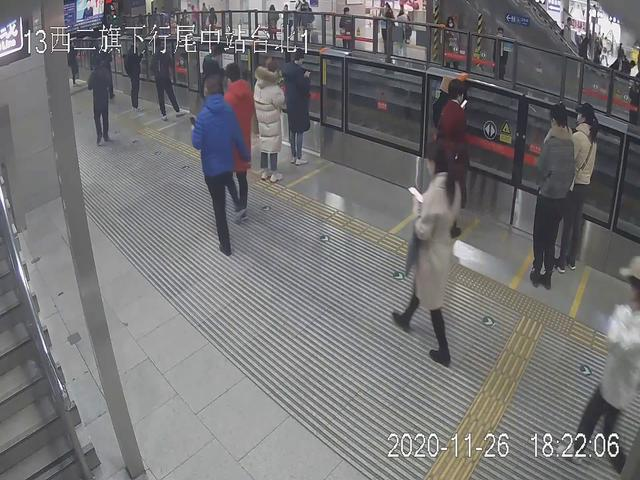person: (393, 136, 454, 364), (192, 74, 245, 258), (562, 95, 603, 277), (532, 99, 570, 289), (219, 61, 256, 217), (250, 51, 288, 185), (440, 78, 476, 217), (281, 46, 311, 162), (87, 54, 114, 138)
